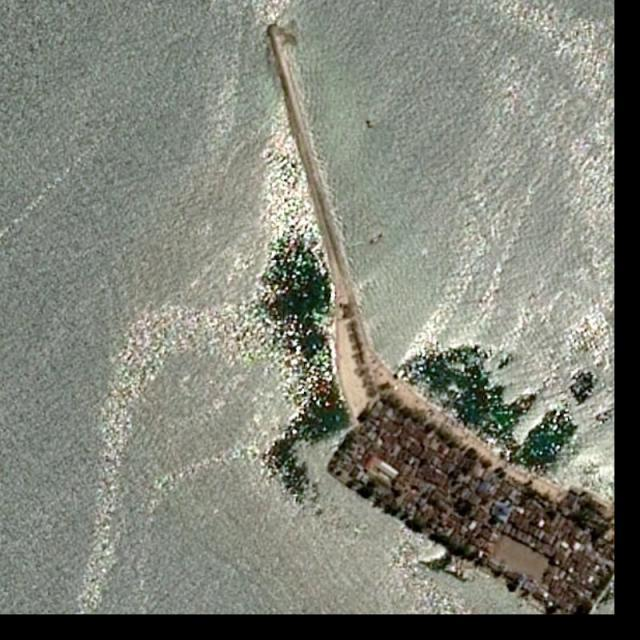ship: (372, 235, 386, 245), (365, 121, 382, 129)
